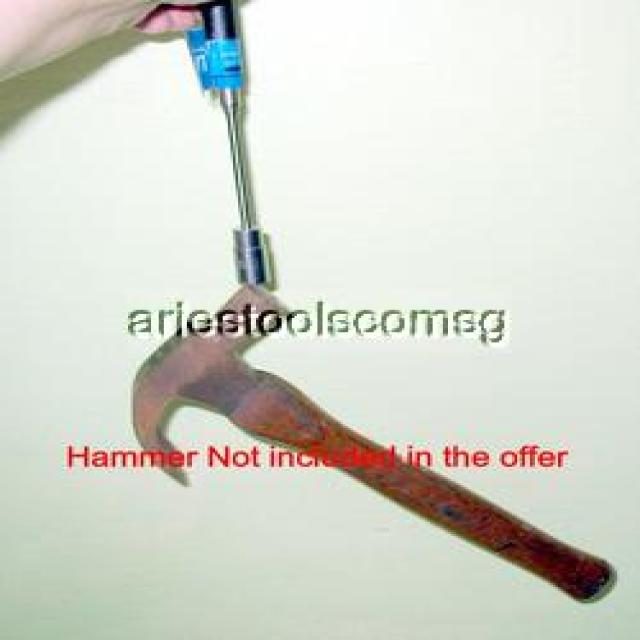hammer: (78, 266, 640, 609)
